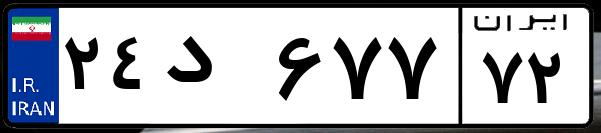2: (57, 26, 110, 100), (525, 38, 570, 115)
4: (110, 28, 158, 98)
6: (270, 28, 330, 110)
7: (385, 28, 445, 110), (330, 28, 385, 110), (475, 38, 525, 113)
د: (158, 20, 270, 120)
